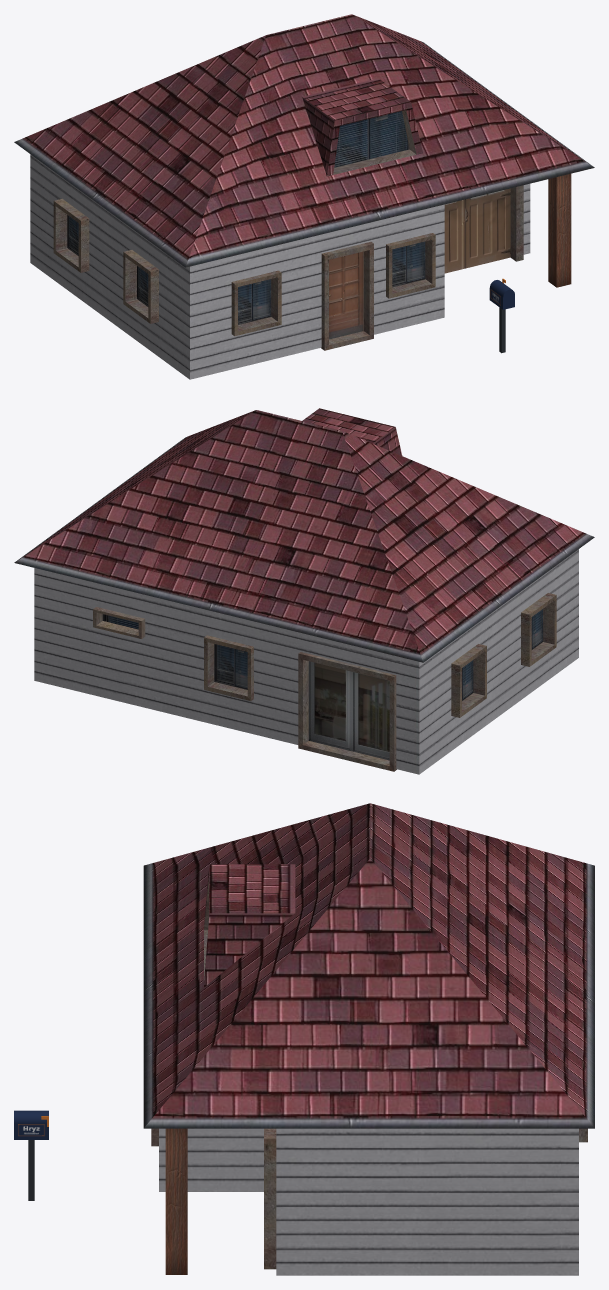
File: casa3-c.glb
3 views of the same model, one above another, from view 1: azimuth 30°, elevation 25°; view 2: azimuth 150°, elevation 25°; view 3: azimuth 270°, elevation 25° (orthographic). The views are drawn at different scales.
Visible parts, largest first — view 1: Casa, CaixaCorreio; view 2: Casa; view 3: Casa, CaixaCorreio.
Part boxes in pixels (box(x1,y1,x2,y2)): Casa: box(14, 14, 594, 379); CaixaCorreio: box(489, 278, 514, 353); Casa: box(14, 408, 594, 774); Casa: box(143, 803, 594, 1275); CaixaCorreio: box(14, 1110, 48, 1200).
Bounding box in the file's own units: 8.88 × 5.16 × 8.3.
5 materials, 2 textured.
